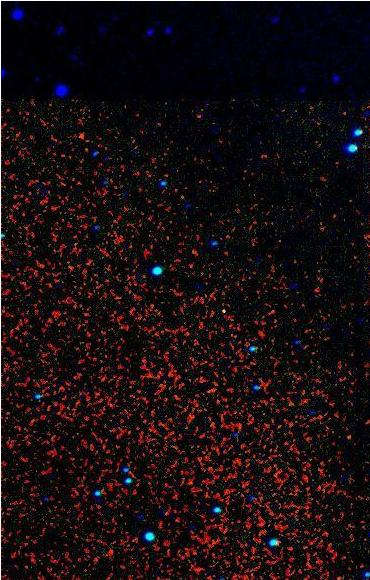star: (334, 421, 364, 451)
